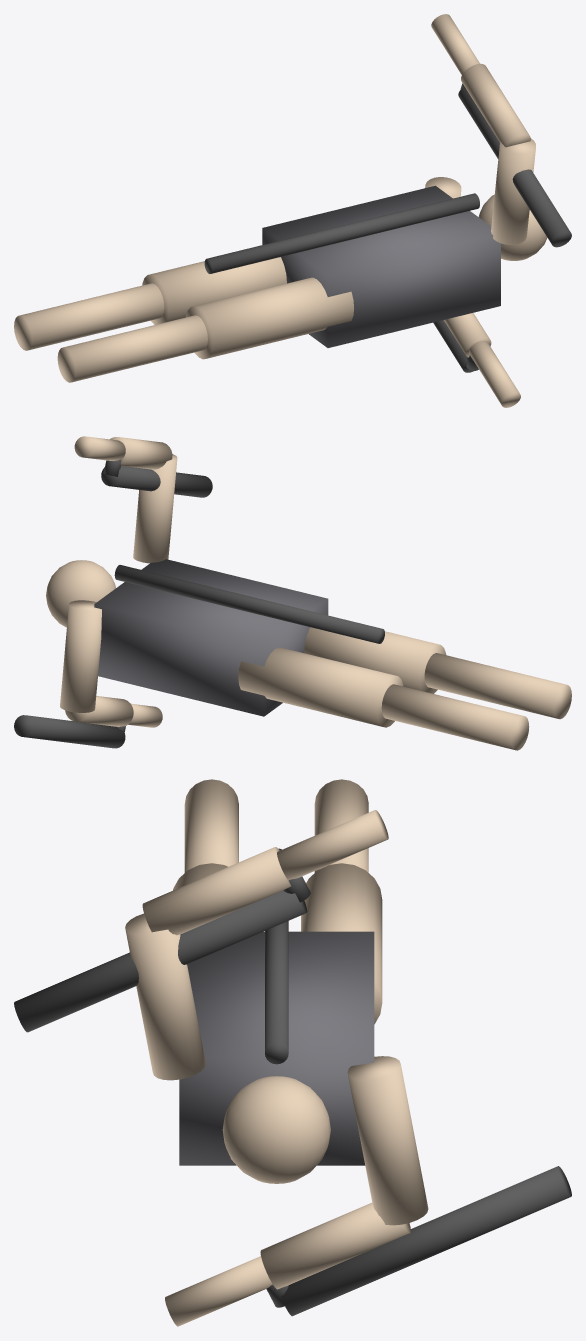
The model's file is stowed.glb.
3 views of the same model, one above another, from view 1: azimuth 30°, elevation 25°; view 2: azimuth 150°, elevation 25°; view 3: azimuth 270°, elevation 25° (orthographic). The views are drawn at different scales.
Parts seen in each view (by area): view 1: torso_g, ul_L, ll_R, ll_L, ul_R, spine_yoke, ua_L, le_spar_L, fa_L, hand_R, head_g, hand_L (+2 smaller); view 2: torso_g, ul_R, ll_L, ll_R, ul_L, spine_yoke, ua_R, ua_L, head_g, le_spar_R, le_spar_L, fa_L (+3 smaller); view 3: torso_g, le_spar_R, head_g, ua_R, le_spar_L, ua_L, fa_L, fa_R, ul_R, ll_L, hand_L, hand_R (+2 smaller).
Boxes of the visible parts, <box> form: torso_g: <box>262,185,500,347</box>; ul_L: <box>185,277,354,359</box>; ll_R: <box>14,283,164,350</box>; ll_L: <box>57,315,207,382</box>; ul_R: <box>142,257,286,324</box>; spine_yoke: <box>204,193,479,273</box>; ua_L: <box>491,138,535,244</box>; le_spar_L: <box>458,87,571,247</box>; fa_L: <box>461,63,530,147</box>; hand_R: <box>469,340,520,407</box>; head_g: <box>478,194,547,260</box>; hand_L: <box>431,14,479,74</box>; torso_g: <box>94,559,328,716</box>; ul_R: <box>238,647,403,727</box>; ll_L: <box>424,653,571,719</box>; ll_R: <box>381,684,529,750</box>; ul_L: <box>304,627,446,693</box>; spine_yoke: <box>114,565,384,643</box>; ua_R: <box>60,600,101,712</box>; ua_L: <box>133,454,177,563</box>; head_g: <box>46,560,115,627</box>; le_spar_R: <box>14,715,125,748</box>; le_spar_L: <box>101,466,212,497</box>; fa_L: <box>110,437,172,469</box>; torso_g: <box>179,931,374,1165</box>; le_spar_R: <box>281,1166,571,1316</box>; head_g: <box>222,1076,330,1183</box>; ua_R: <box>347,1056,428,1225</box>; le_spar_L: <box>14,890,307,1032</box>; ua_L: <box>125,913,205,1080</box>; fa_L: <box>142,847,291,935</box>; fa_R: <box>260,1202,410,1289</box>; ul_R: <box>301,863,382,1024</box>; ll_L: <box>184,779,238,872</box>; hand_L: <box>277,810,388,880</box>; hand_R: <box>165,1256,272,1326</box>.
Bounding box in the file's own units: 1.59 × 1.05 × 1.03.
